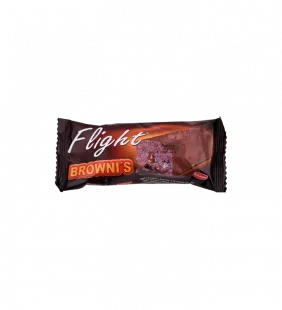FLIGHT: (43, 107, 237, 198)
